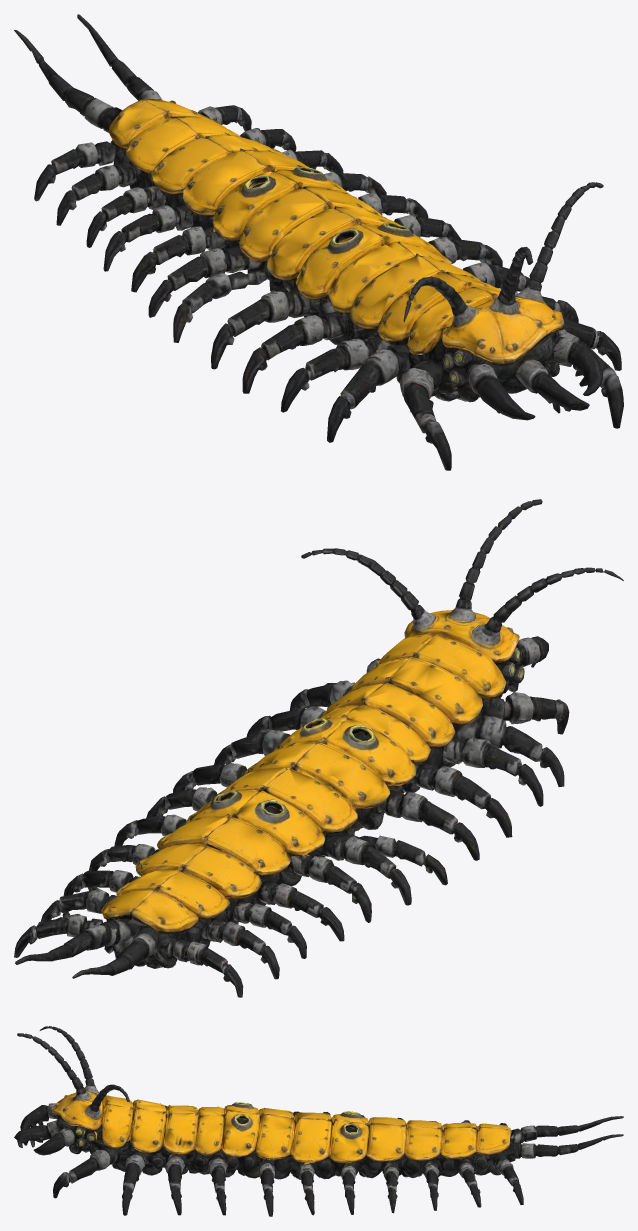
Rendered from centipede.glb.
3 renders of one model, top to bottom at view 1: azimuth 30°, elevation 25°; view 2: azimuth 150°, elevation 25°; view 3: azimuth 270°, elevation 25°, orthographic. The views are drawn at different scales.
Size of the model in its own units: 1.2 by 0.8081 by 3.4.
Materials: 1 (1 with a texture image).
